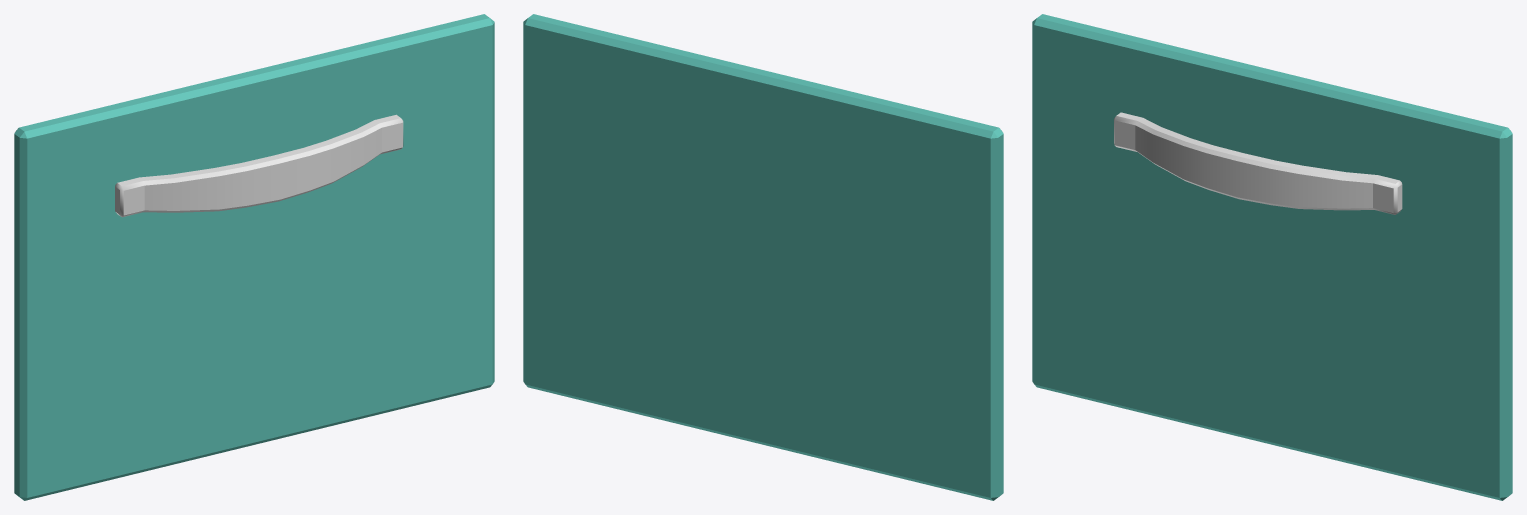
The model's file is Bookcase_door_4.002.fbx.
3 renders of one model, left to right at view 1: azimuth 30°, elevation 25°; view 2: azimuth 150°, elevation 25°; view 3: azimuth 330°, elevation 25°, orthographic.
Visible parts, largest first — view 1: Bookcase_door_4.002; view 2: Bookcase_door_4.002; view 3: Bookcase_door_4.002.
Boxes of the visible parts, x1,y1,x2,y2 form: Bookcase_door_4.002: [14, 14, 494, 500]; Bookcase_door_4.002: [523, 14, 1003, 500]; Bookcase_door_4.002: [1032, 14, 1512, 500].
Bounding box in the file's own units: 0.4975 × 0.3696 × 0.0655.
